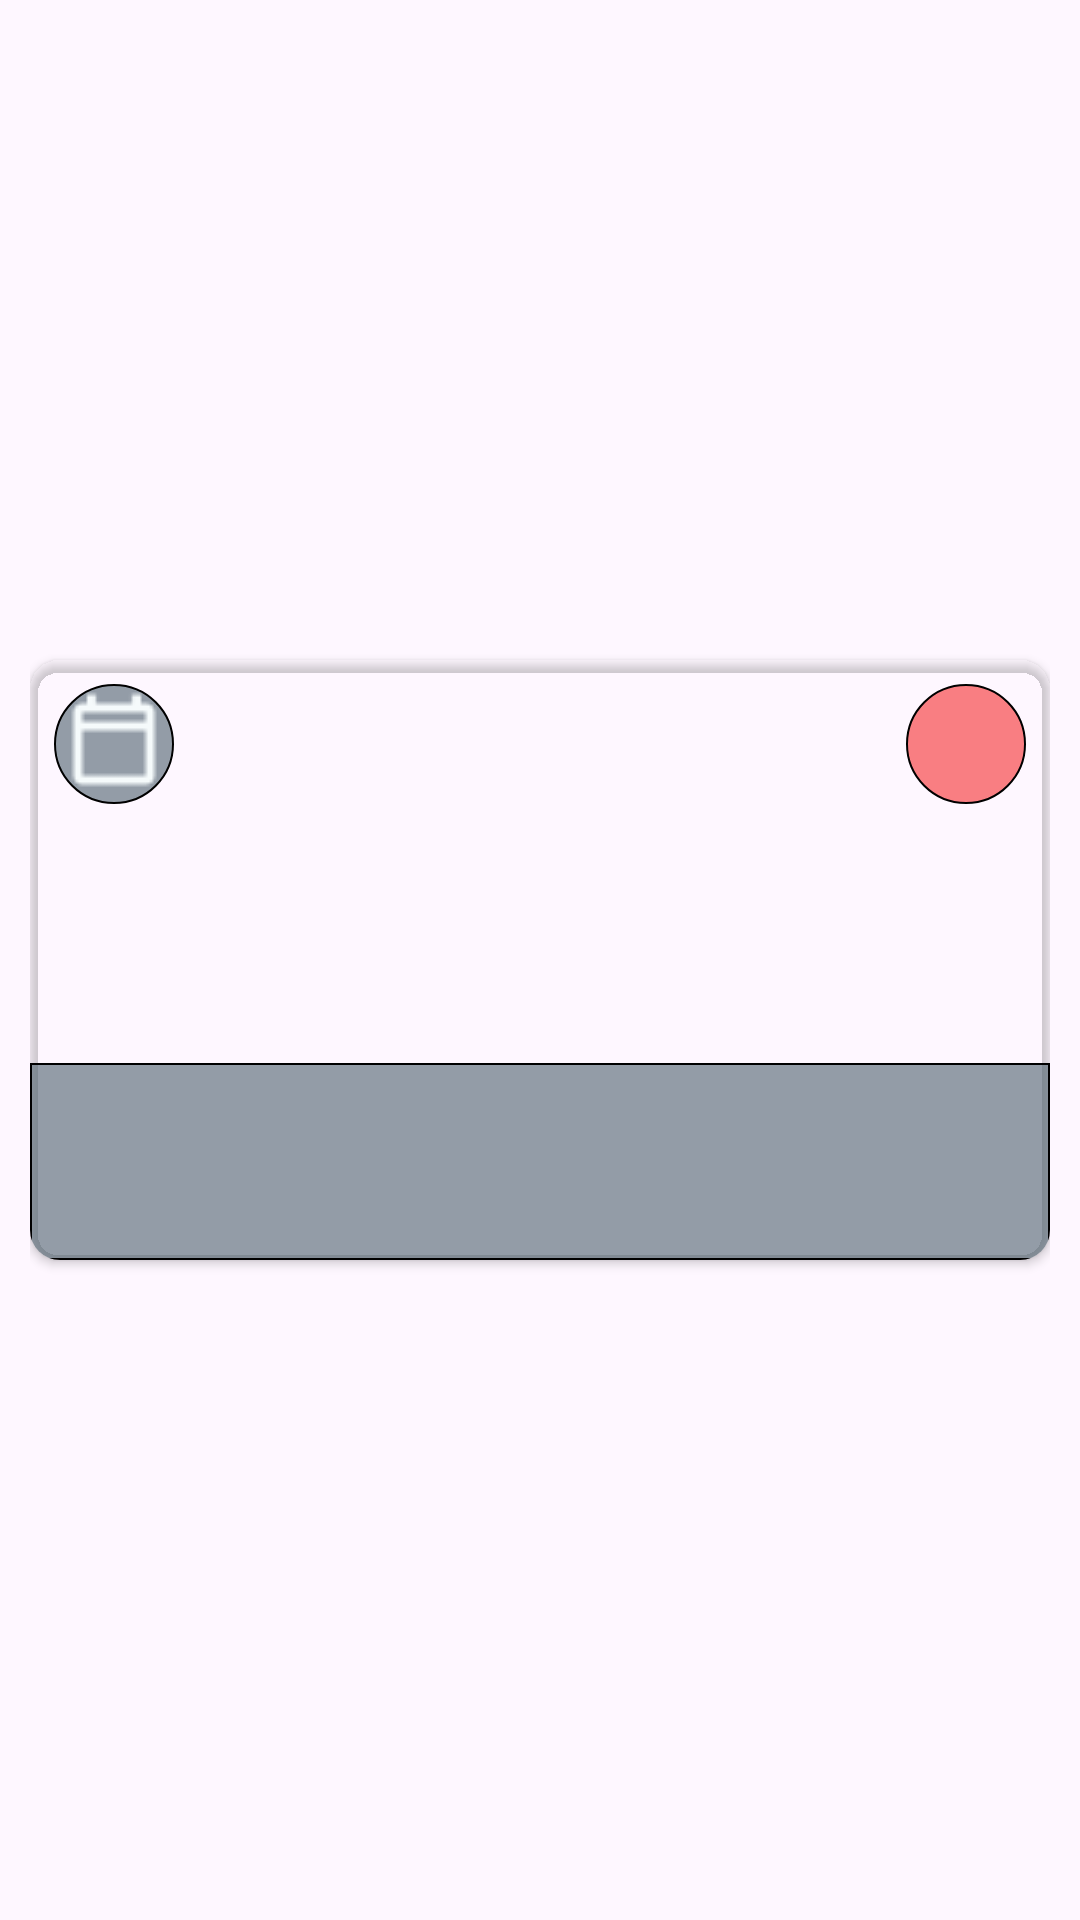

Icon click points for this 1080w x 1920h phone screenshot, format [x,y]:
calendar: [114,744]
